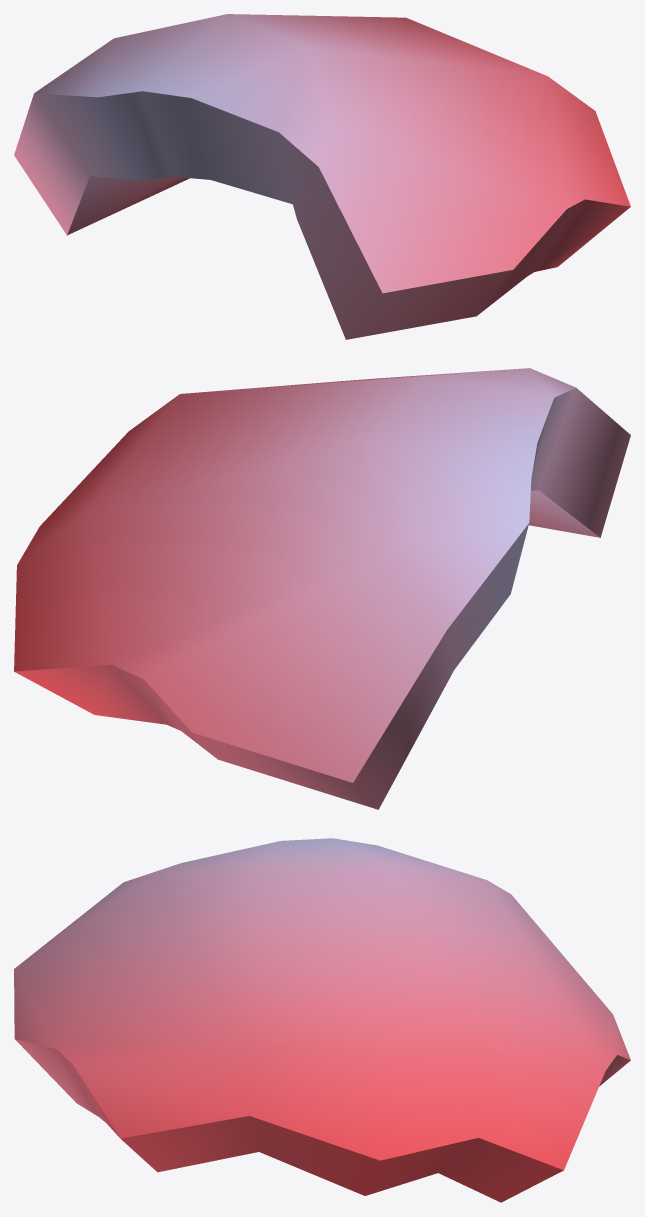
Rendered from Egg_Particle_Red_001.fbx.
The picture shows the model from 3 angles, top to bottom: view 1: azimuth 30°, elevation 25°; view 2: azimuth 150°, elevation 25°; view 3: azimuth 270°, elevation 25°; orthographic projection. The views are drawn at different scales.
Visible parts, largest first — view 1: Egg_Particle_Red_001; view 2: Egg_Particle_Red_001; view 3: Egg_Particle_Red_001.
Part boxes in pixels (left/top/right/bottom): Egg_Particle_Red_001: left=14, top=14, right=630, bottom=339; Egg_Particle_Red_001: left=14, top=368, right=630, bottom=809; Egg_Particle_Red_001: left=14, top=838, right=630, bottom=1202.
Size of the model in its own units: 1.37 by 0.7852 by 1.71.
